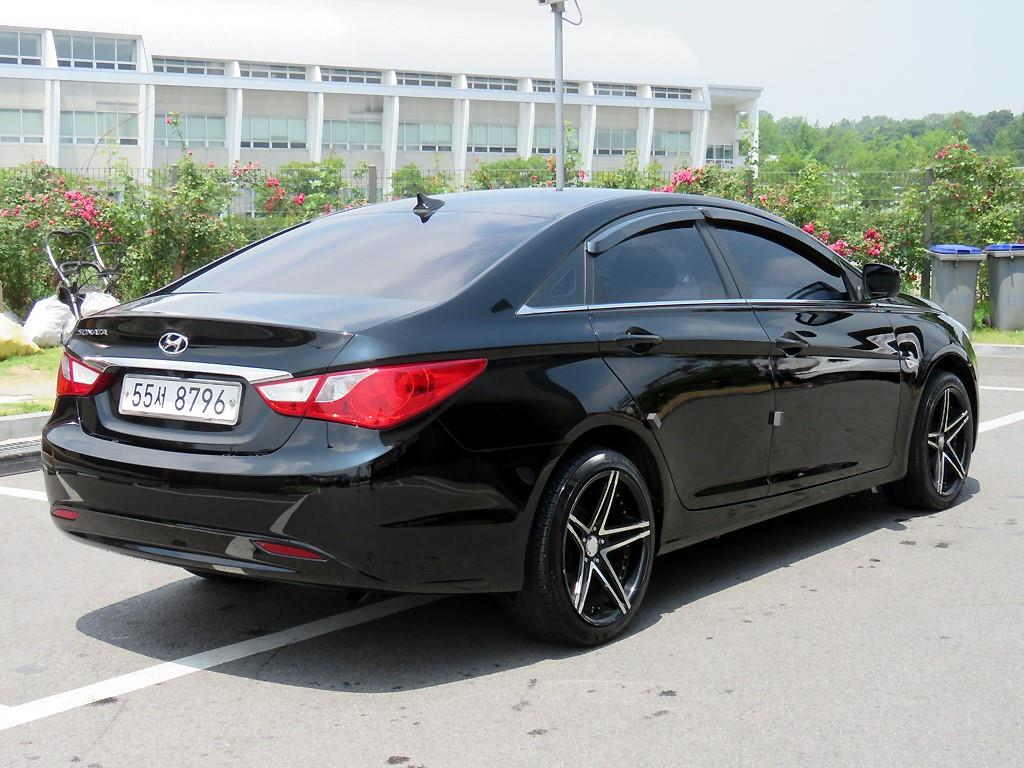plate: (121, 378, 239, 421)
